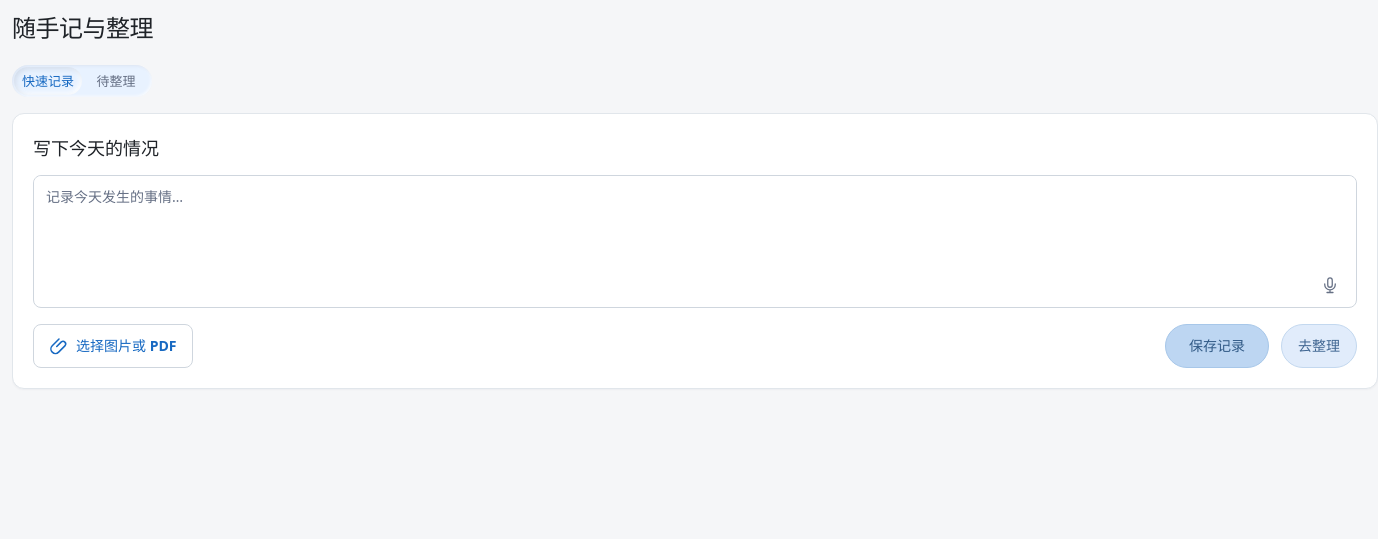
Test: App › 保存返回时保留等待期间编辑的文字：新草稿
This screenshot has width=1378, height=539.
In the text box with placeholder "记录今天发生的事情…": (695, 220) [34,176,1356,263], type "原草稿"
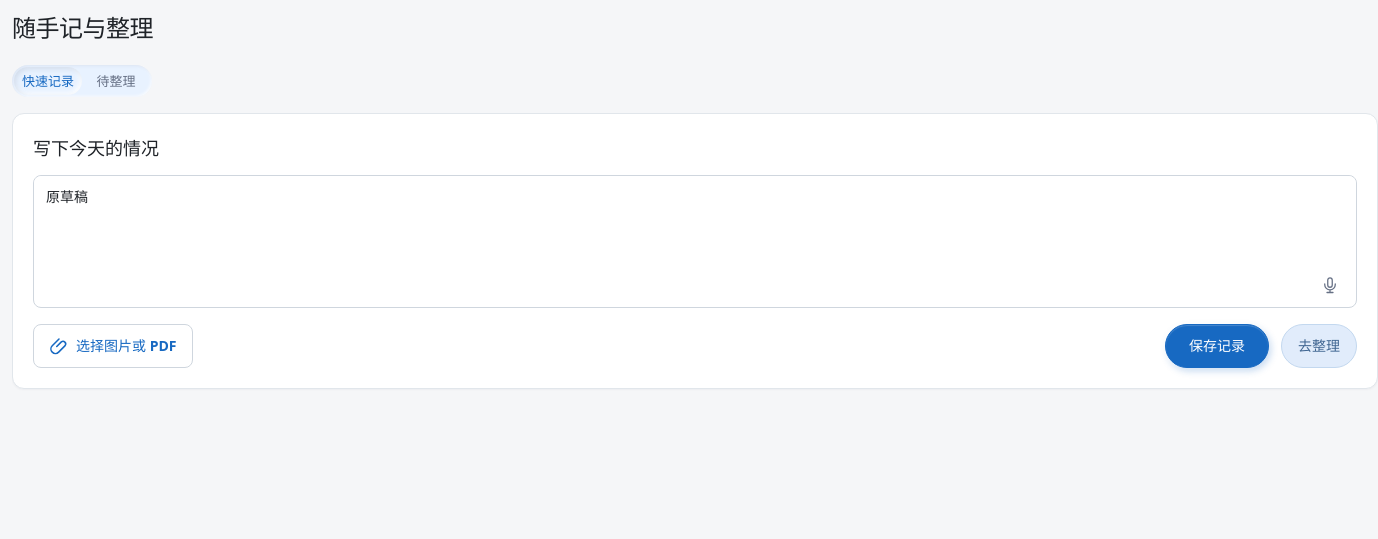
Click the button "保存记录": (1217, 346) [1165,324,1269,368]
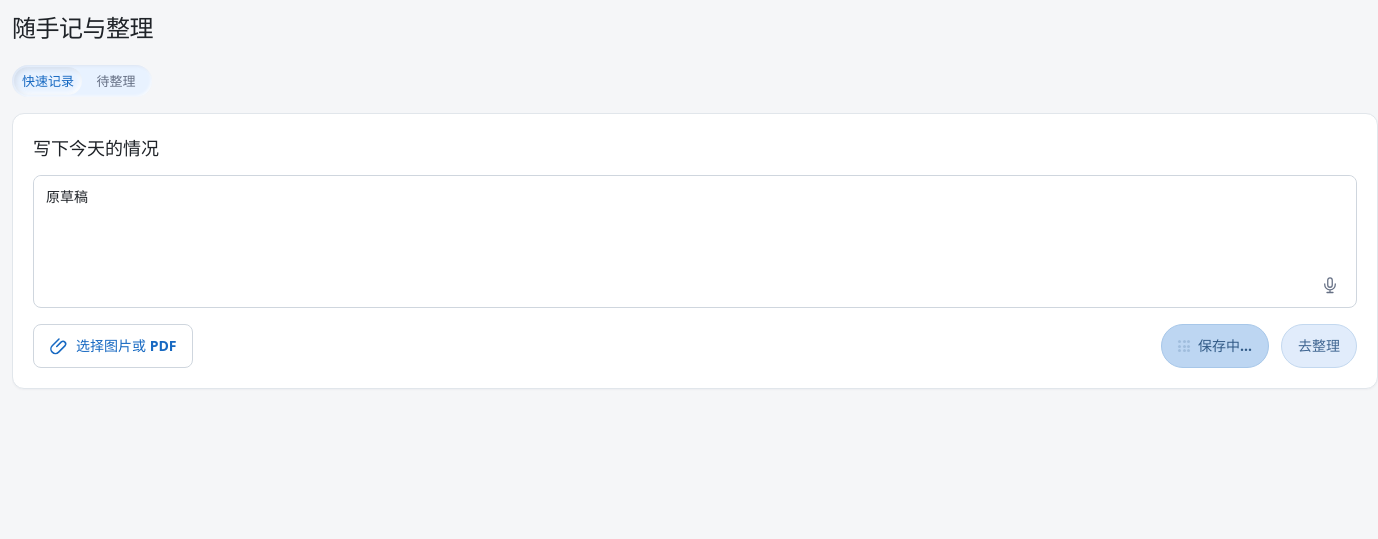
Check: the button with aria-label "去整理这条记录" is disabled, box [1281,324,1357,368]
Check: the button with aria-label "正在保存记录" has attribute data-state="saving", box [1161,324,1269,368]
Check: the button with aria-label "正在保存记录" has attribute aria-busy="true", box [1161,324,1269,368]
Replace the text in the text box with placeholder "记录今天发生的事情…" with "中间编辑": (695, 220) [34,176,1356,263]
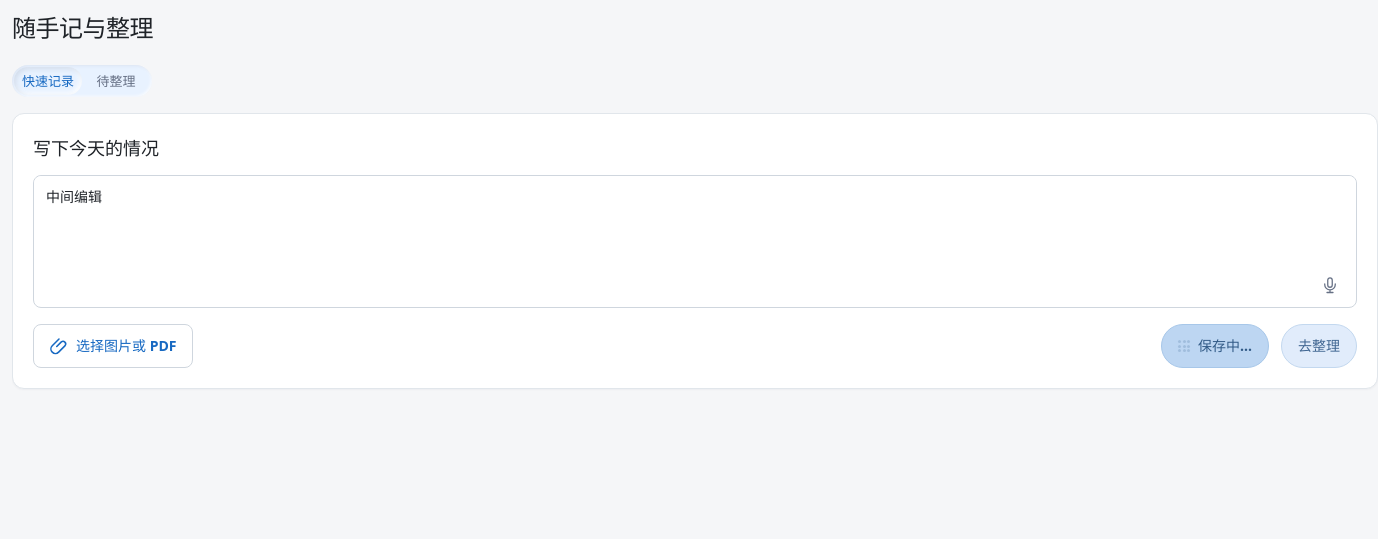
Replace the text in the text box with placeholder "记录今天发生的事情…" with "新草稿": (695, 220) [34,176,1356,263]
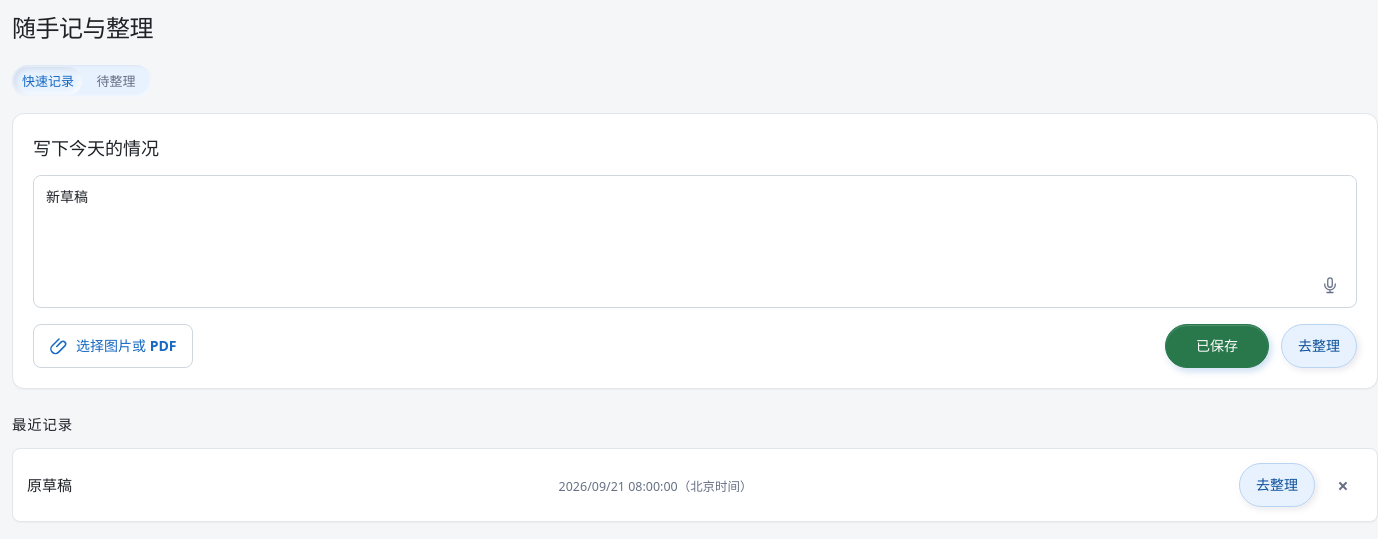
Check: the text "已保存" is shown, box [1196,336,1238,356]
